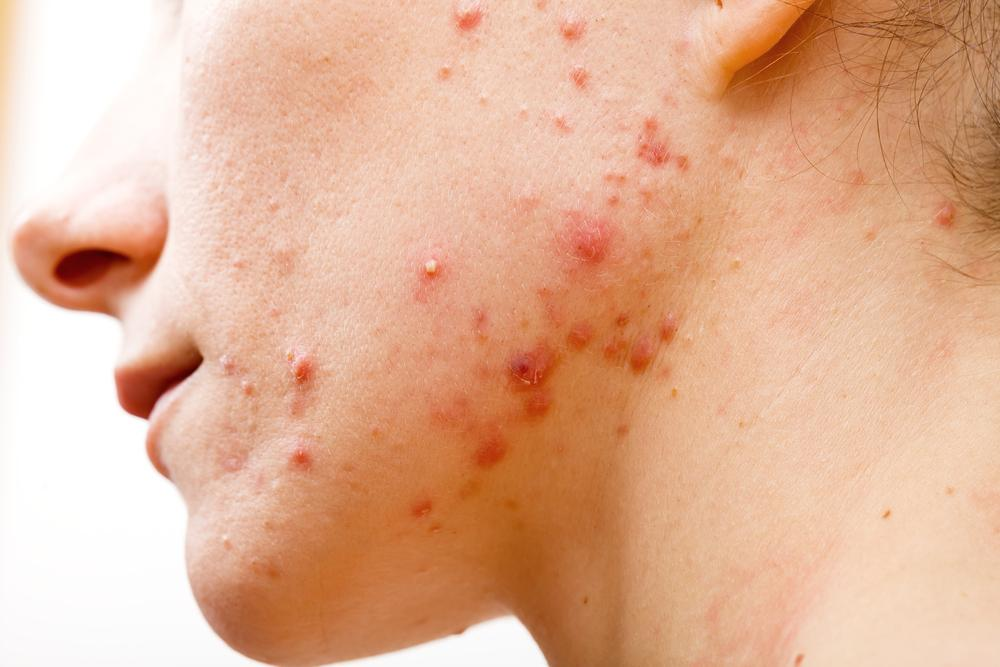acne marks: (357, 31, 574, 521), (577, 520, 846, 535)
